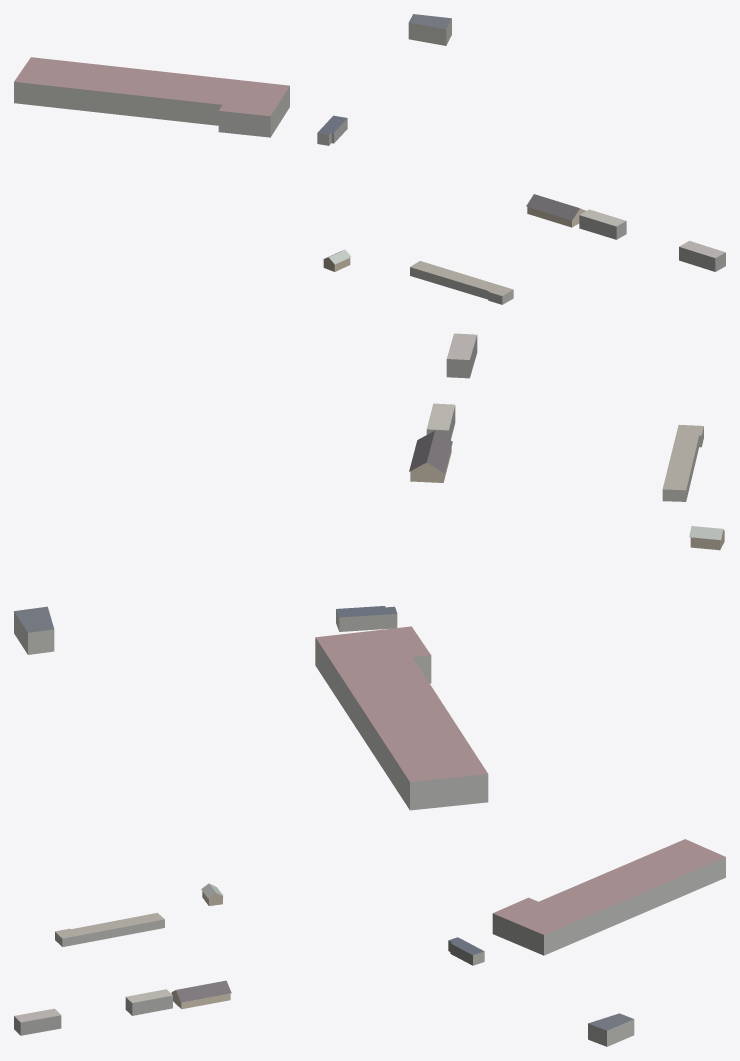
3 renders of one model, top to bottom at view 1: azimuth 30°, elevation 25°; view 2: azimuth 150°, elevation 25°; view 3: azimuth 270°, elevation 25°, orthographic. The views are drawn at different scales.
Visible parts, largest first — view 1: tuile; view 2: tuile; view 3: tuile.
Part boxes in pixels (x1,y1,x2,y2): tuile: [14, 14, 725, 304]; tuile: [14, 333, 724, 810]; tuile: [14, 839, 725, 1046].
Bounding box in the file's own units: 179 × 10.85 × 287.
